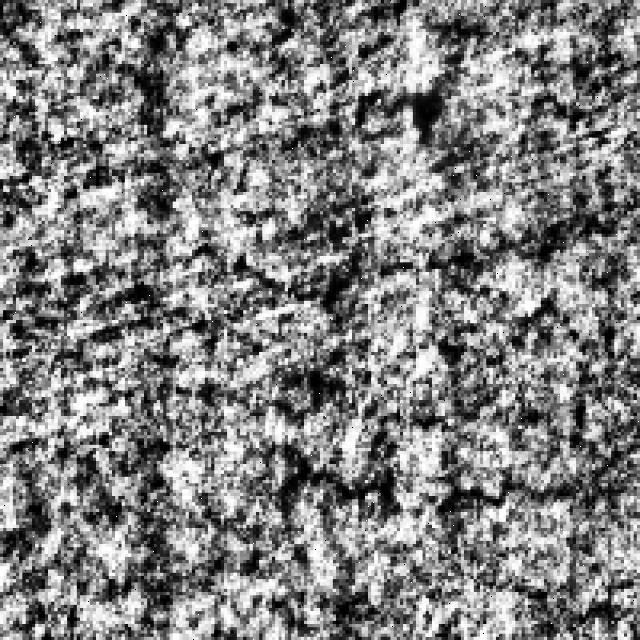Pitted_Surface: (137, 230, 346, 422), (259, 432, 621, 528)
